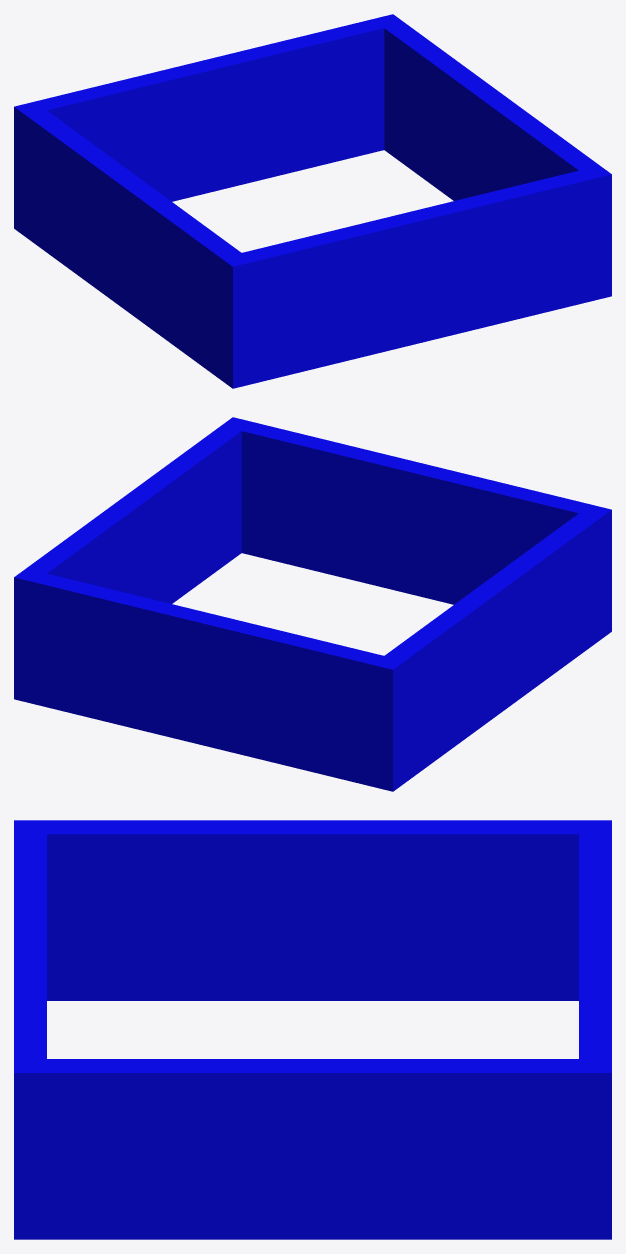
Rendered from tray.dae.
The picture shows the model from 3 angles, top to bottom: view 1: azimuth 30°, elevation 25°; view 2: azimuth 150°, elevation 25°; view 3: azimuth 270°, elevation 25°; orthographic projection. The views are drawn at different scales.
Parts seen in each view (by area): view 1: ID2; view 2: ID2; view 3: ID2.
Boxes of the visible parts, x1=… form: ID2: x1=14, y1=14, x2=611, y2=388; ID2: x1=14, y1=417, x2=611, y2=791; ID2: x1=14, y1=820, x2=611, y2=1239.
Bounding box in the file's own units: 0.335 × 0.335 × 0.103.
